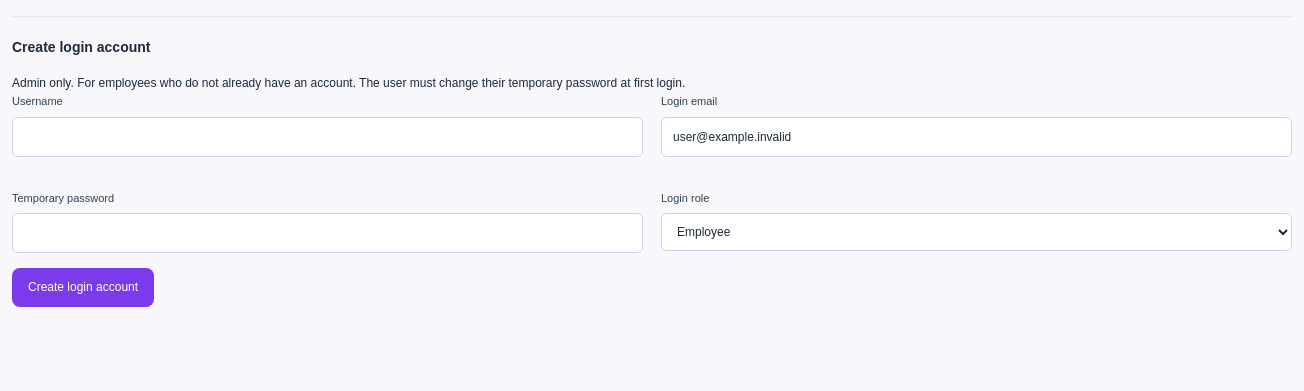
Test: creates an HR account and clears the temporary password
Type "newlogin" into the field labelled "Username". click: (328, 137)
box: [12,117,643,157]
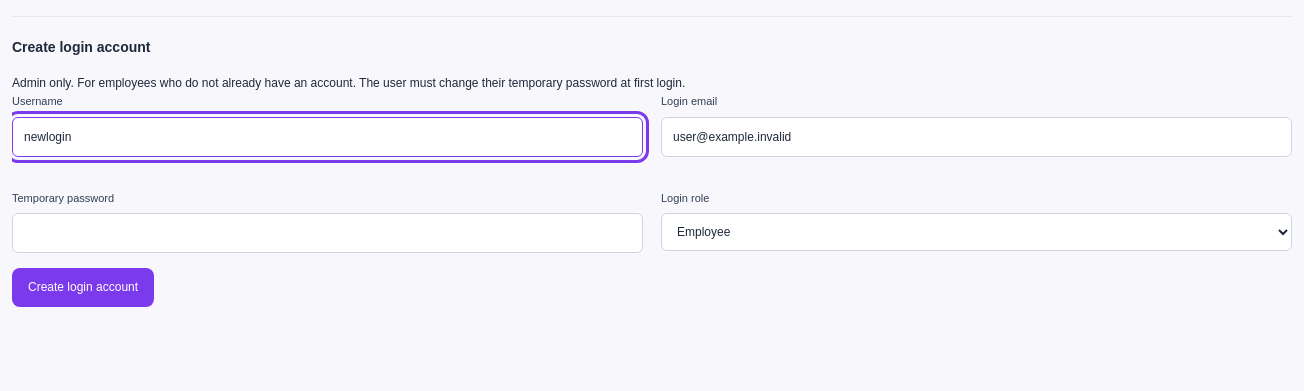
Type "Temporary!Unique482" into the password field labelled "Temporary password". click: (328, 233)
box: [12,213,643,253]
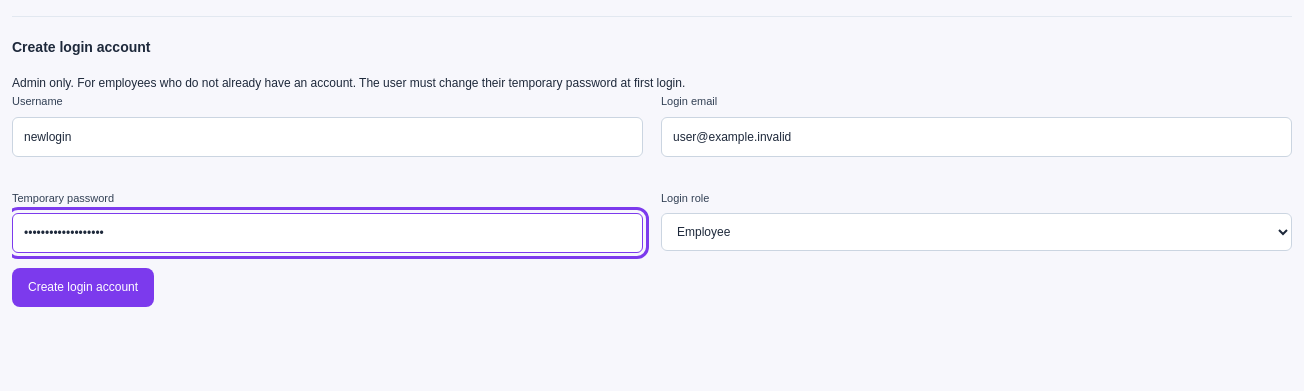
Select "HR" in the dropdown labelled "Login role". click: (976, 232)
box: [661,213,1292,251]
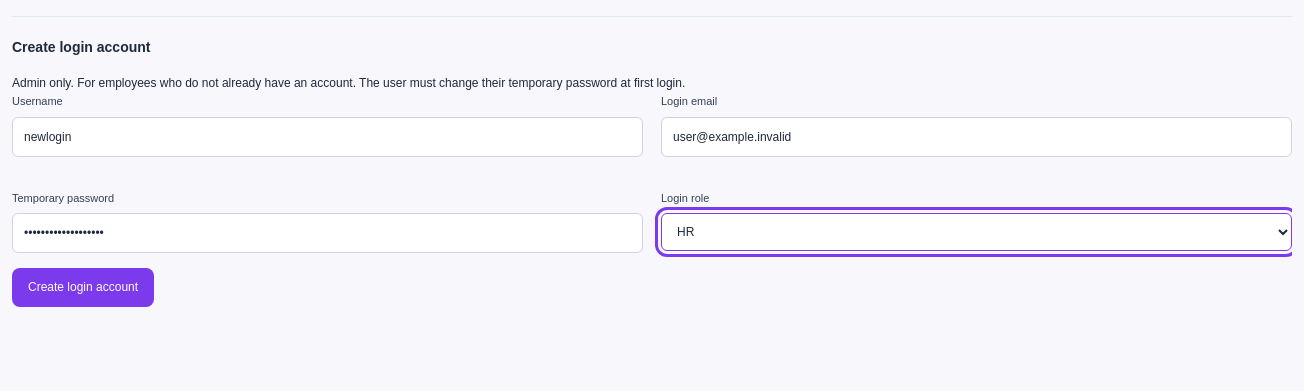
Click the button "Create login account". click: (83, 288)
box: [12,268,154,307]
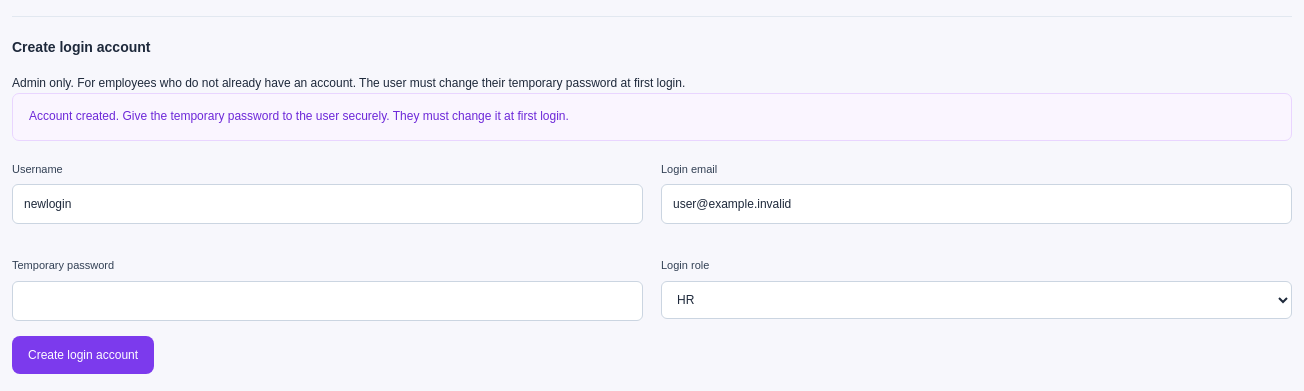
Expected: the message is shown, [12,93,1292,141]
Expected: the password field labelled "Temporary password" is empty, [12,281,643,321]
